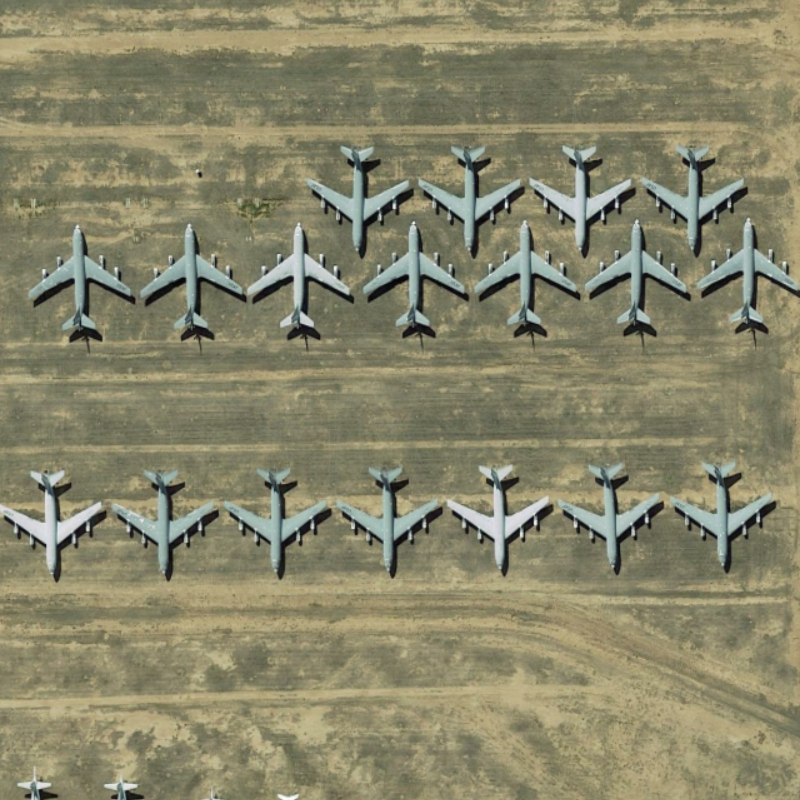A14: (21, 213, 135, 342), (108, 457, 221, 583), (223, 456, 334, 581), (413, 138, 533, 252), (668, 453, 782, 573), (445, 451, 553, 577), (360, 220, 473, 340), (300, 136, 414, 254), (137, 218, 244, 343), (699, 207, 799, 340), (634, 142, 754, 250), (556, 455, 663, 576), (339, 458, 447, 576), (1, 459, 105, 581), (249, 217, 351, 340), (585, 218, 693, 332), (527, 138, 634, 252), (480, 215, 580, 334)
